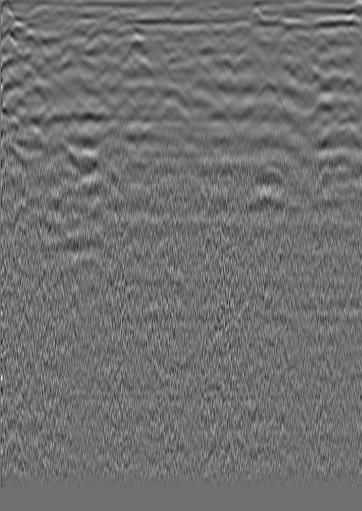가스: (247, 162, 295, 208)
상수: (22, 30, 42, 50)
오수: (312, 32, 332, 52)
우수: (152, 27, 172, 47)
